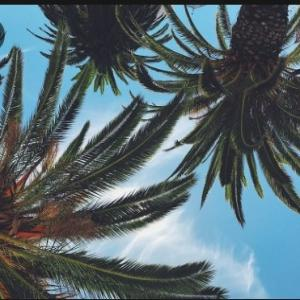palm tree: (0, 10, 229, 299)
